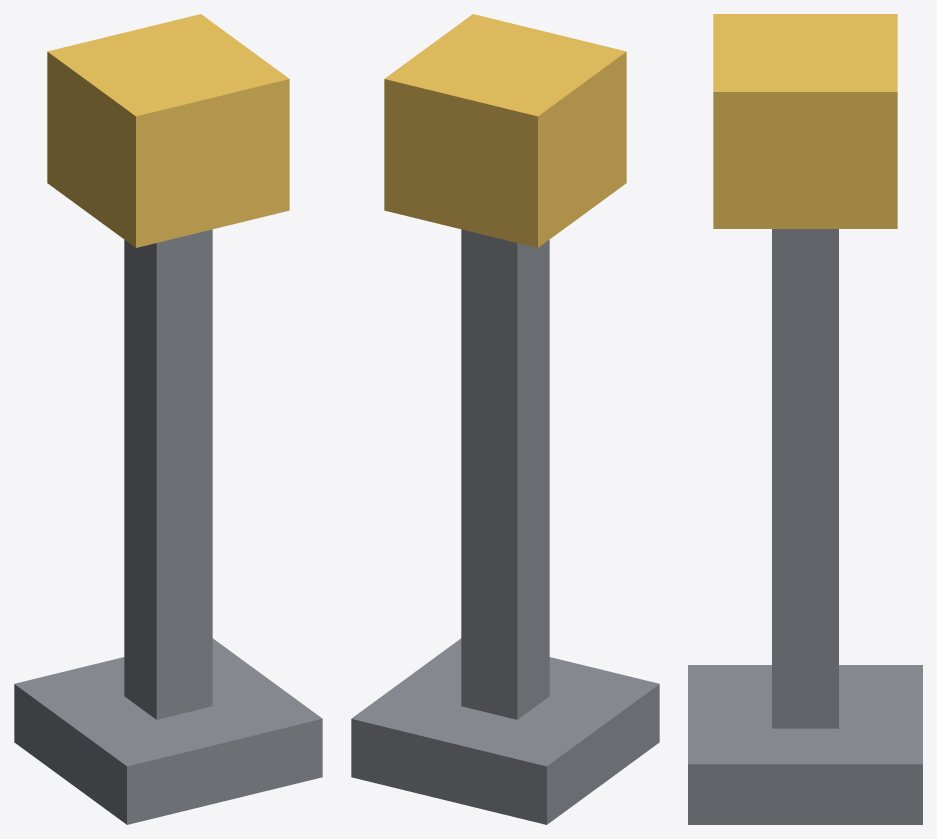
Rendered from alarm-beacon.glb.
3 renders of one model, left to right at view 1: azimuth 30°, elevation 25°; view 2: azimuth 150°, elevation 25°; view 3: azimuth 270°, elevation 25°, orthographic. The views are drawn at different scales.
Visible parts, largest first — view 1: alarm-beacon; view 2: alarm-beacon; view 3: alarm-beacon.
Part boxes in pixels (<box>): alarm-beacon: <box>14,14,322,824</box>; alarm-beacon: <box>351,14,659,824</box>; alarm-beacon: <box>688,14,922,824</box>.
Bounding box in the file's own units: 0.28 × 0.95 × 0.28.
